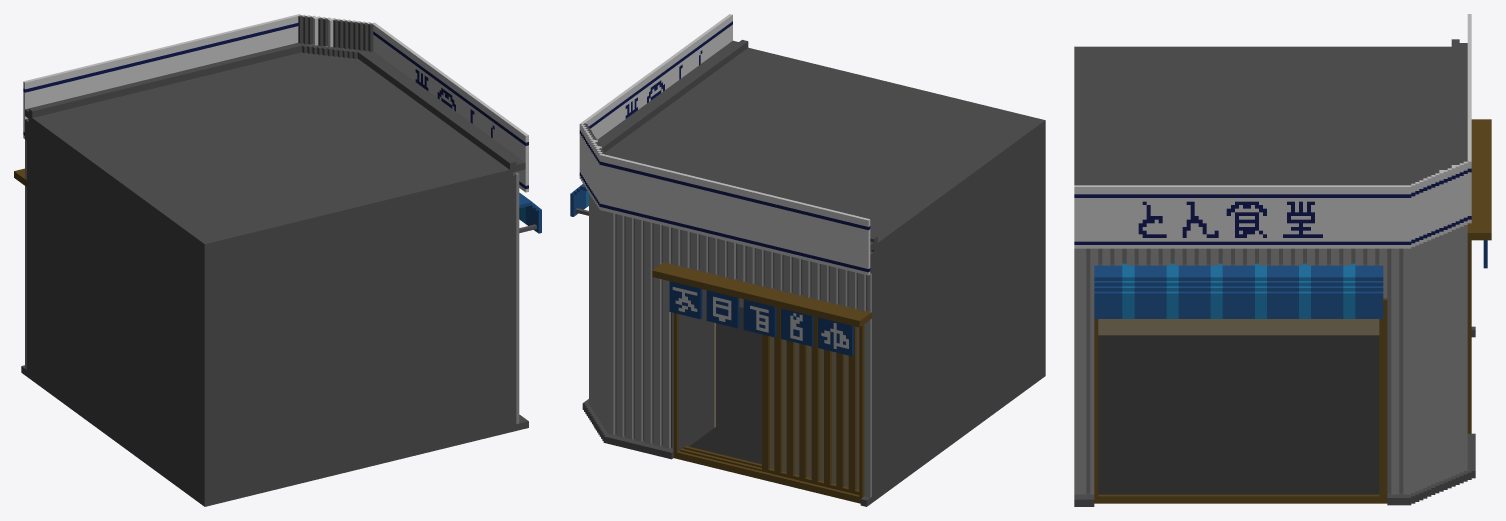
Rendered from Food_Shop-5.obj.
The picture shows the model from 3 angles, left to right: view 1: azimuth 30°, elevation 25°; view 2: azimuth 150°, elevation 25°; view 3: azimuth 270°, elevation 25°; orthographic projection. The views are drawn at different scales.
Bounding box in the file's own units: 10.9 × 8.8 × 10.4.
1 material, 1 textured.
